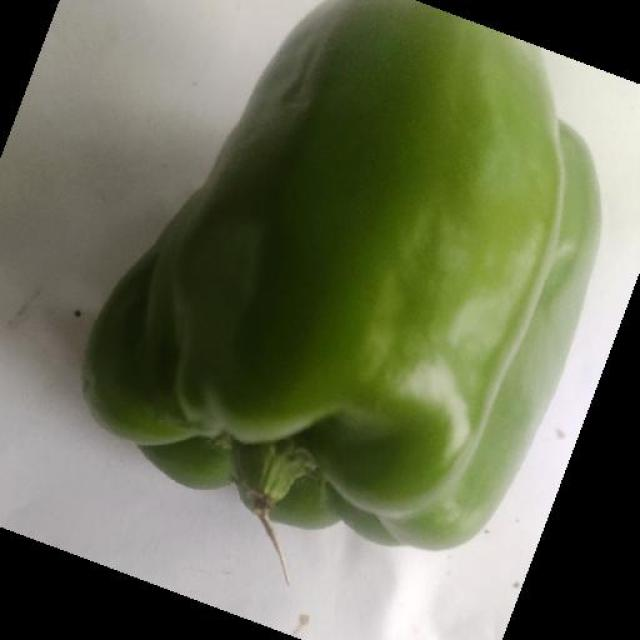Fresh_Capsicum: (159, 59, 475, 604)
